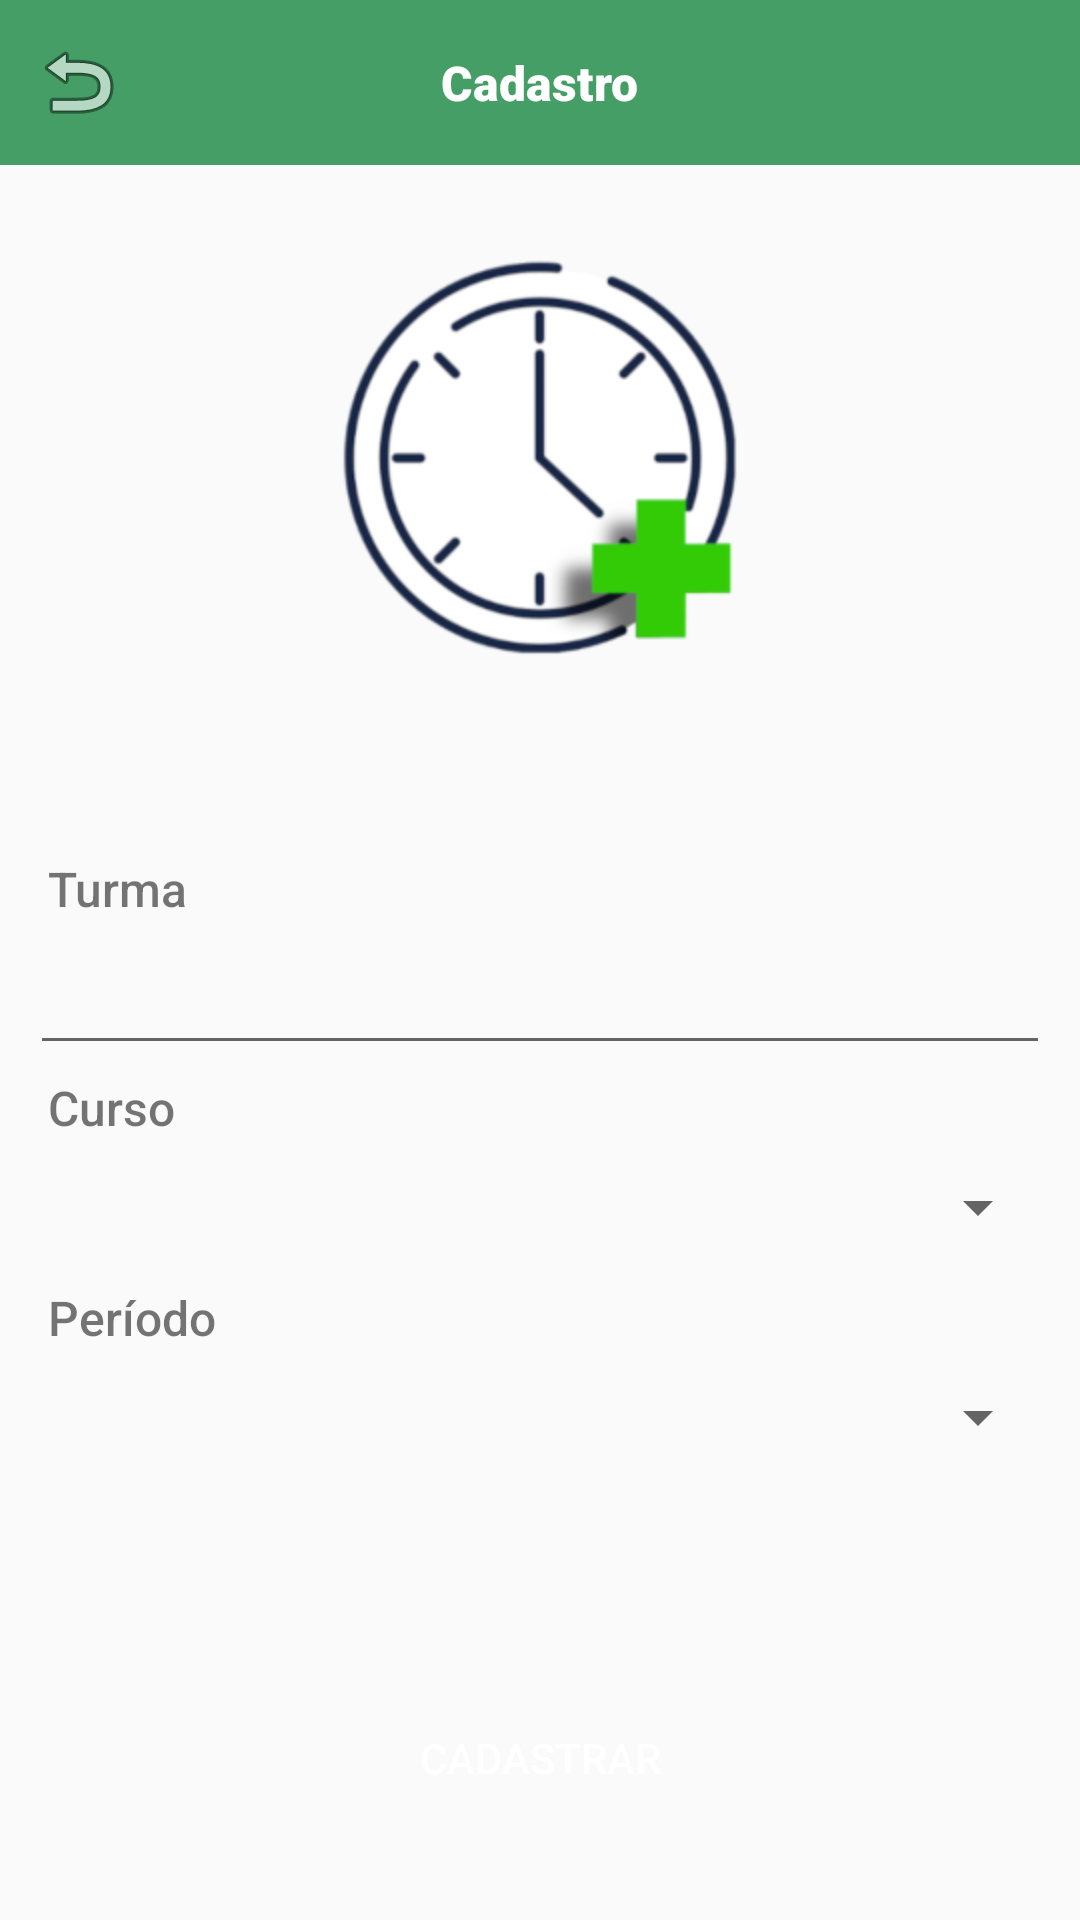

Named icons in this screenshot (1080×1920) and their centers, (x,y):
revert: (79,83)
